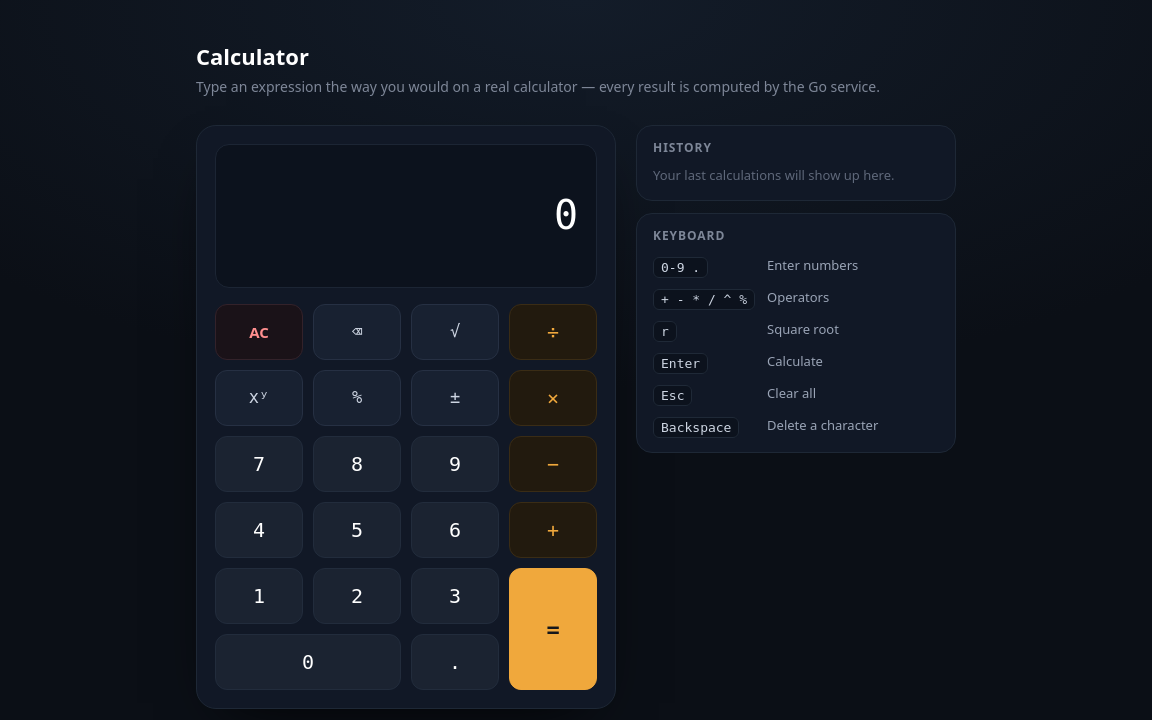
it: calculating › applies a unary operation immediately
The image size is (1152, 720).
What coordinates should you click on to do the following:
click the button "9"
I would click on:
 (455, 464)
Its box is x1=411 y1=436 x2=499 y2=492.
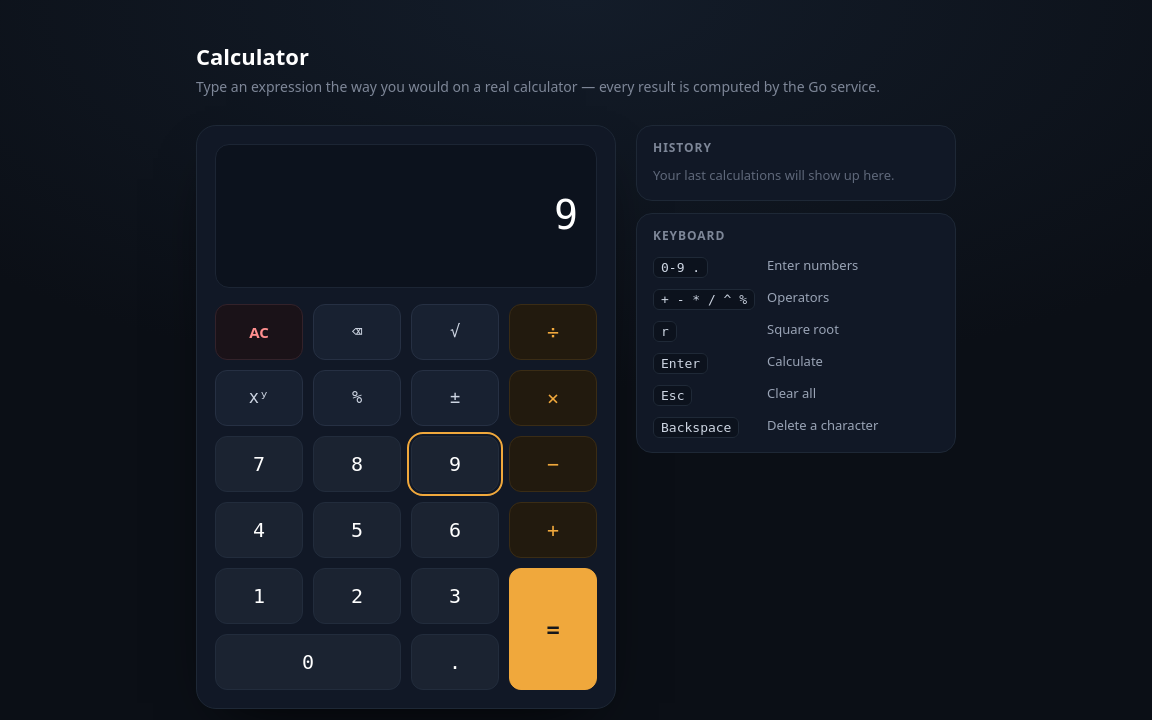
What coordinates should you click on to do the following:
click the button named "Square root"
I would click on:
 (455, 332)
Its box is x1=411 y1=304 x2=499 y2=360.
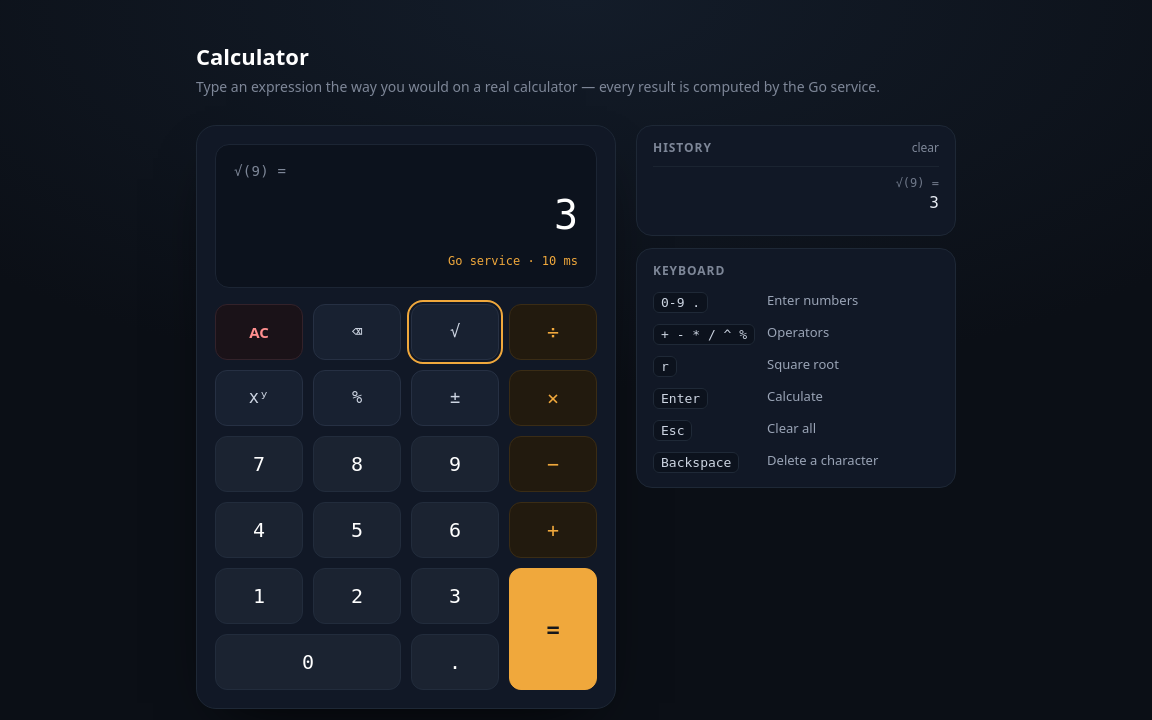
Result: the element showing "√(9) = 3 Go service · 10 ms" is shown at x1=215 y1=144 x2=597 y2=288
